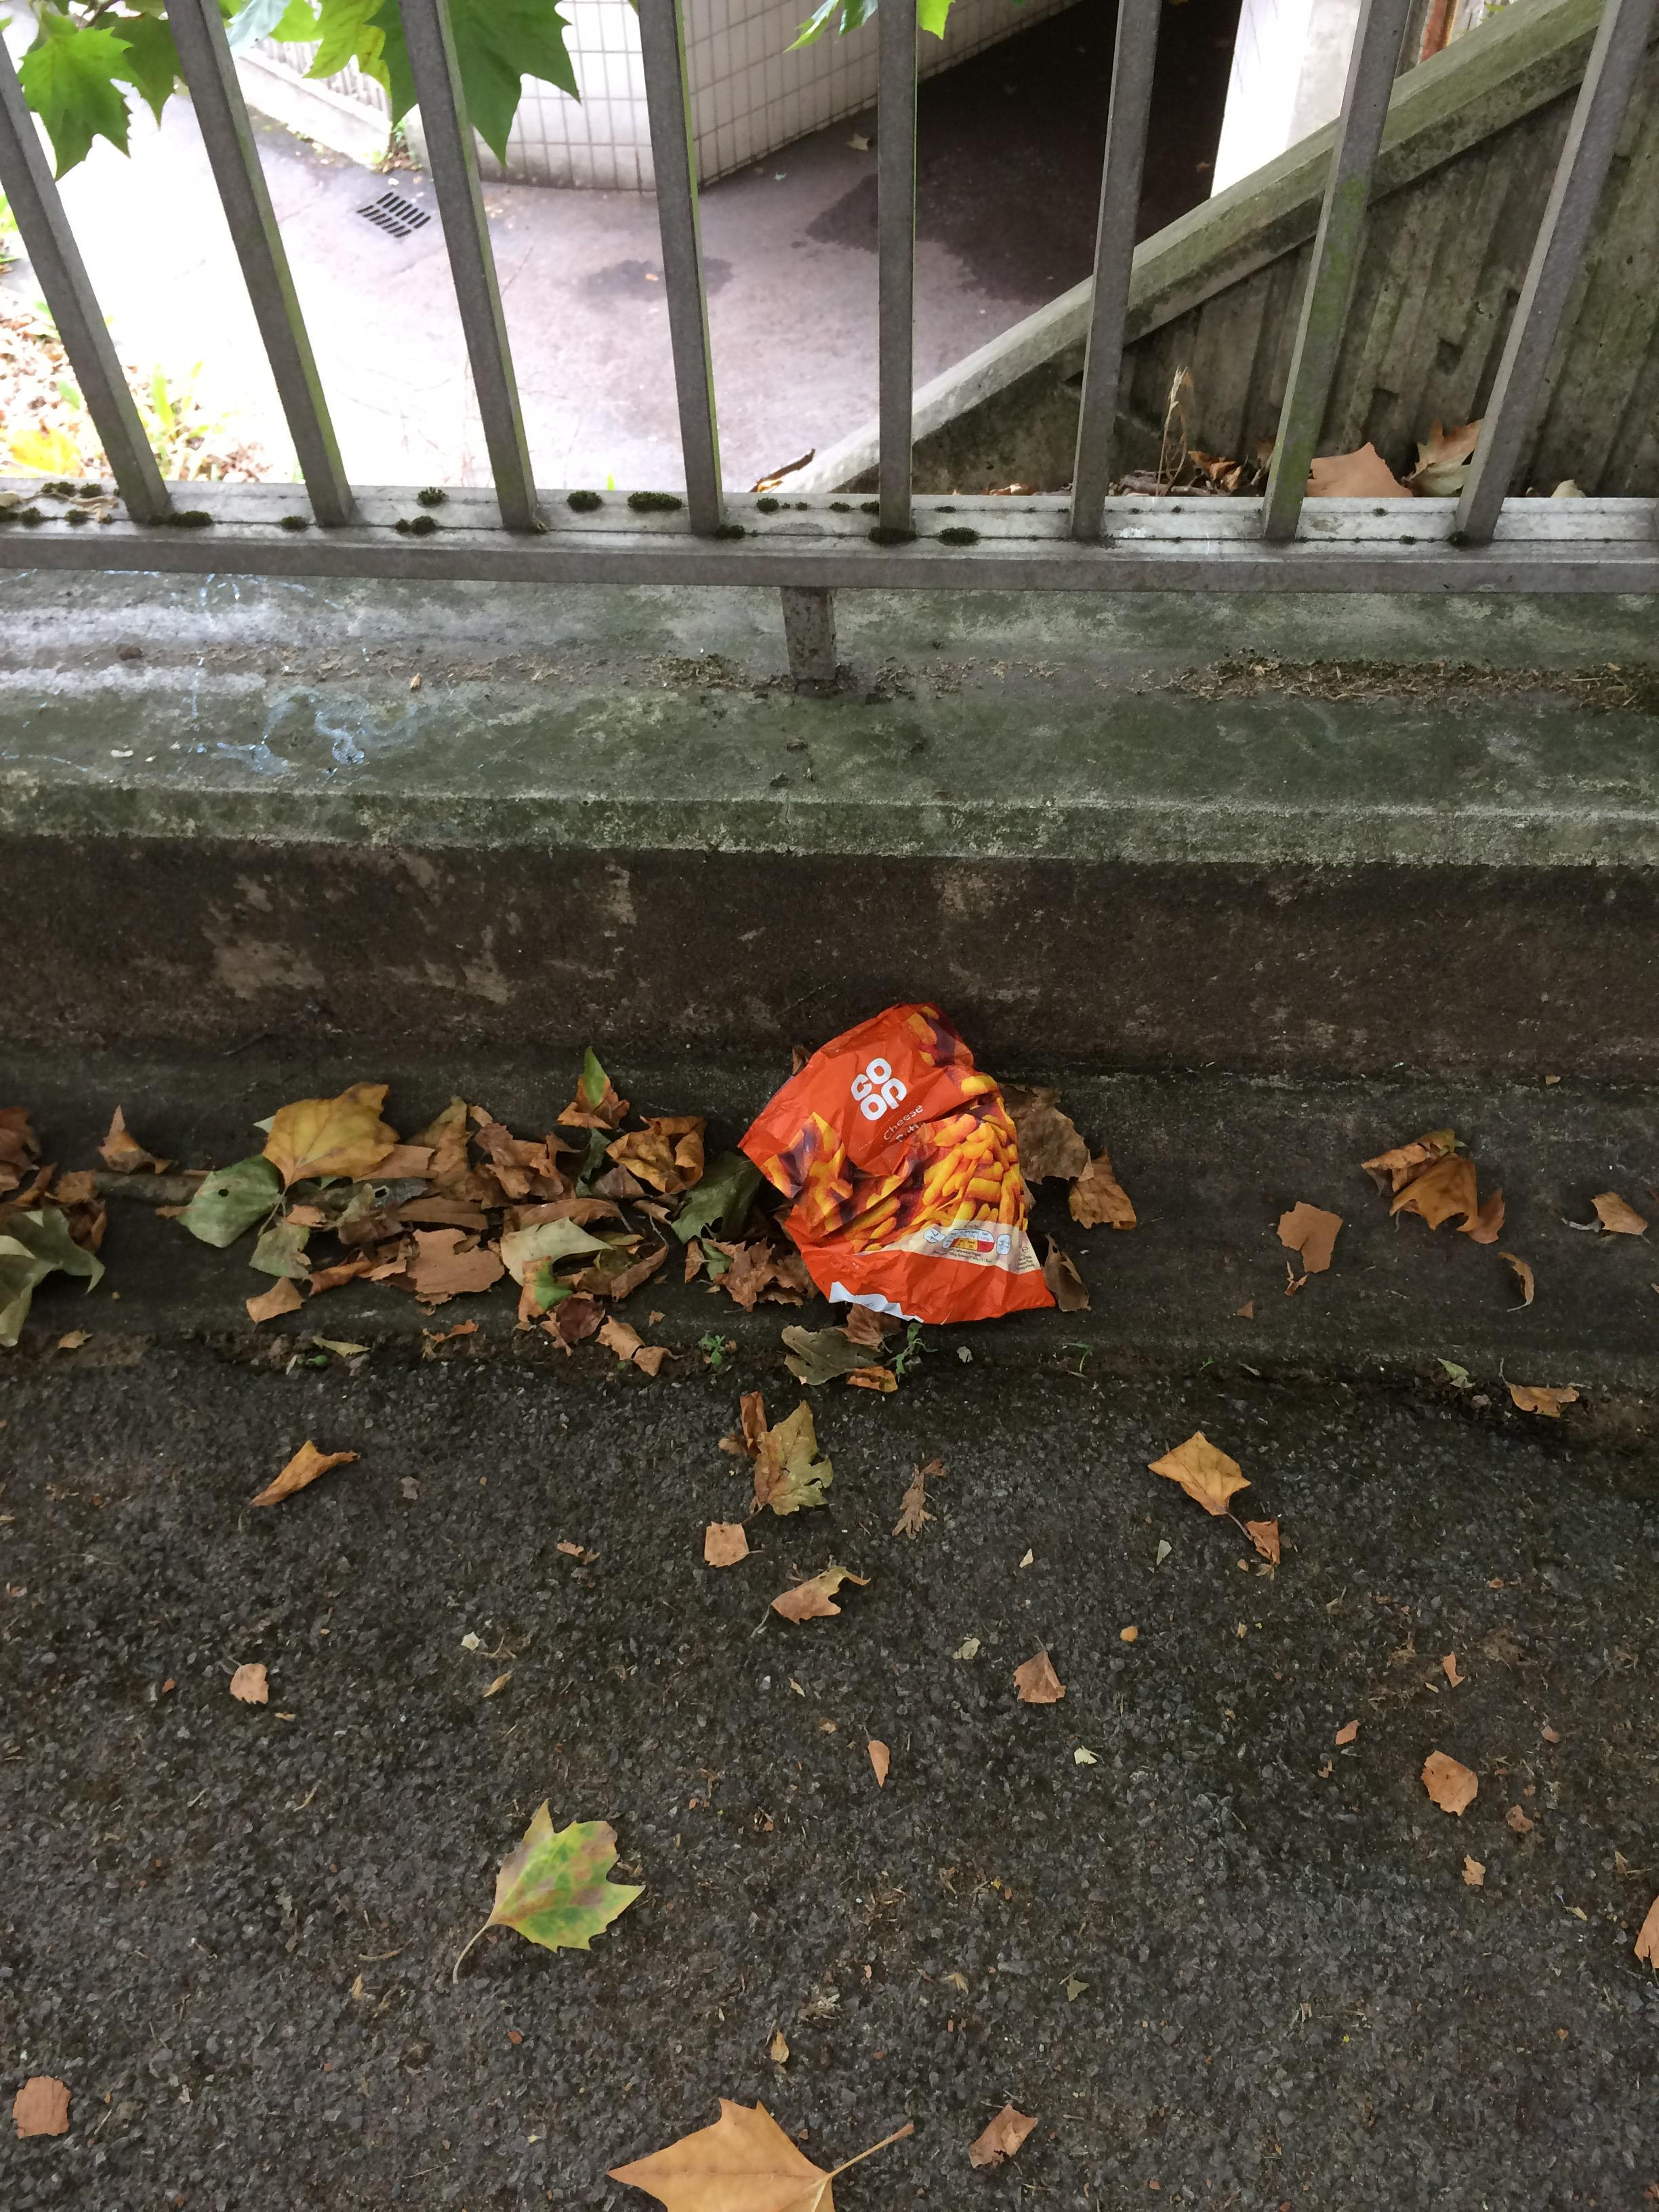Trash: (725, 993, 1065, 1366)
